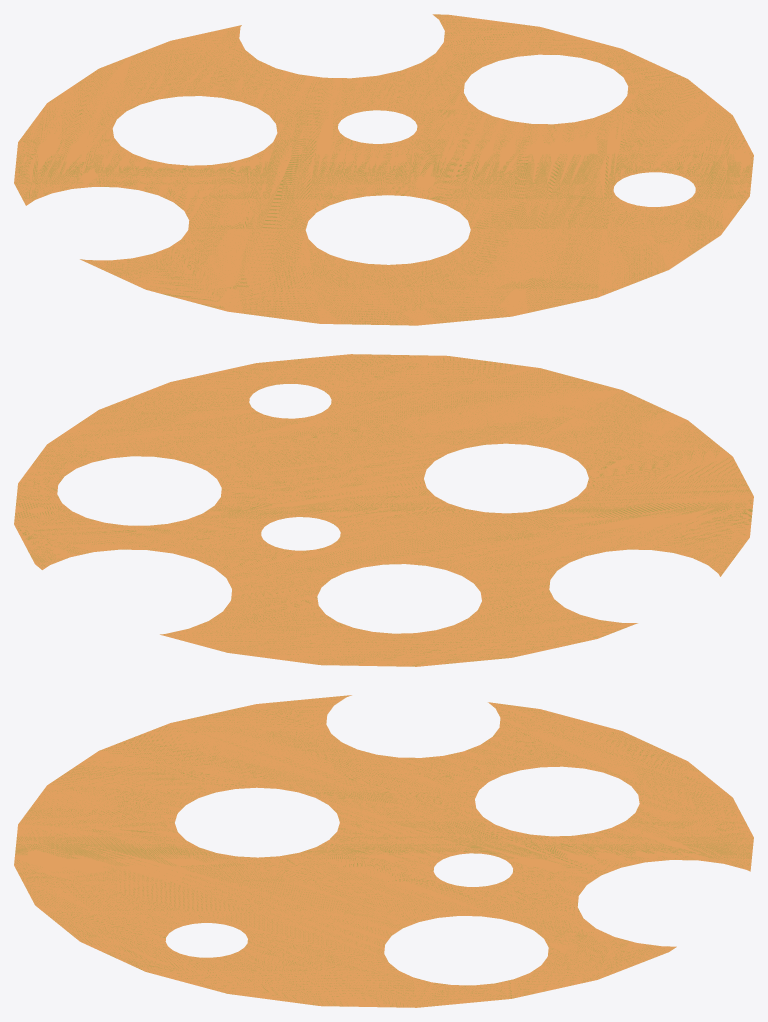
Rendered from original-103.obj.
3 renders of one model, top to bottom at view 1: azimuth 30°, elevation 25°; view 2: azimuth 150°, elevation 25°; view 3: azimuth 270°, elevation 25°, orthographic.
Visible parts, largest first — view 1: #ID582; view 2: #ID582; view 3: #ID582.
Boxes of the visible parts, x1,y1,x2,y2 form: #ID582: (14,14,753,325); #ID582: (14,354,753,666); #ID582: (14,695,753,1007).
Bounding box in the file's own units: 0.1636 × 0 × 0.1636.
